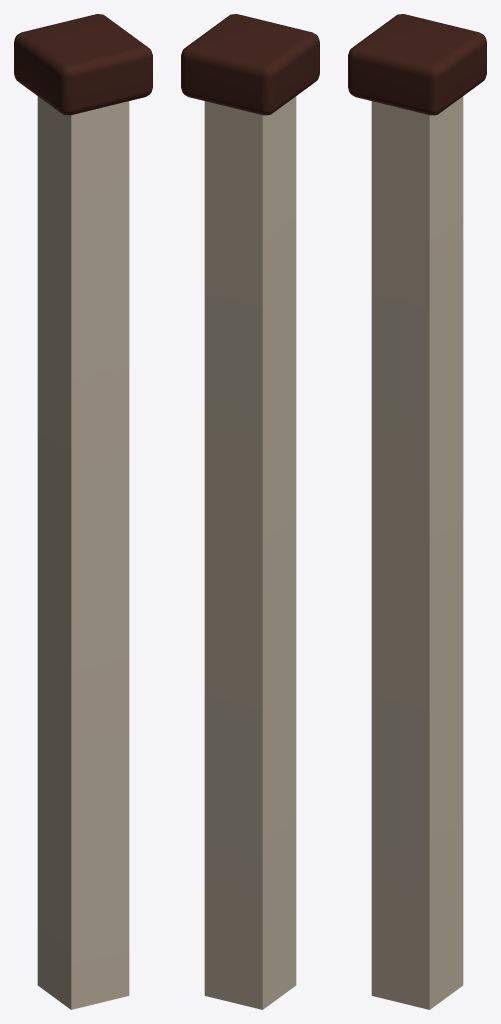
Rendered from wall-corner.glb.
3 views of the same model, side by side, from view 1: azimuth 30°, elevation 25°; view 2: azimuth 150°, elevation 25°; view 3: azimuth 330°, elevation 25° (orthographic).
Parts seen in each view (by area): view 1: wall-corner; view 2: wall-corner; view 3: wall-corner.
Part boxes in pixels (bbox=[...]): wall-corner: bbox=[14, 14, 152, 1009]; wall-corner: bbox=[181, 14, 319, 1009]; wall-corner: bbox=[348, 14, 486, 1009].
Size of the model in its own units: 0.32 by 3.13 by 0.32.
